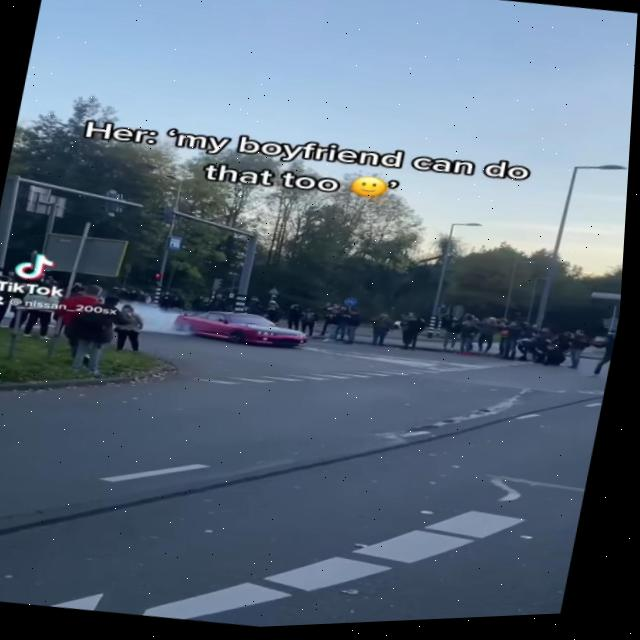vehicle: (180, 301, 317, 361)
